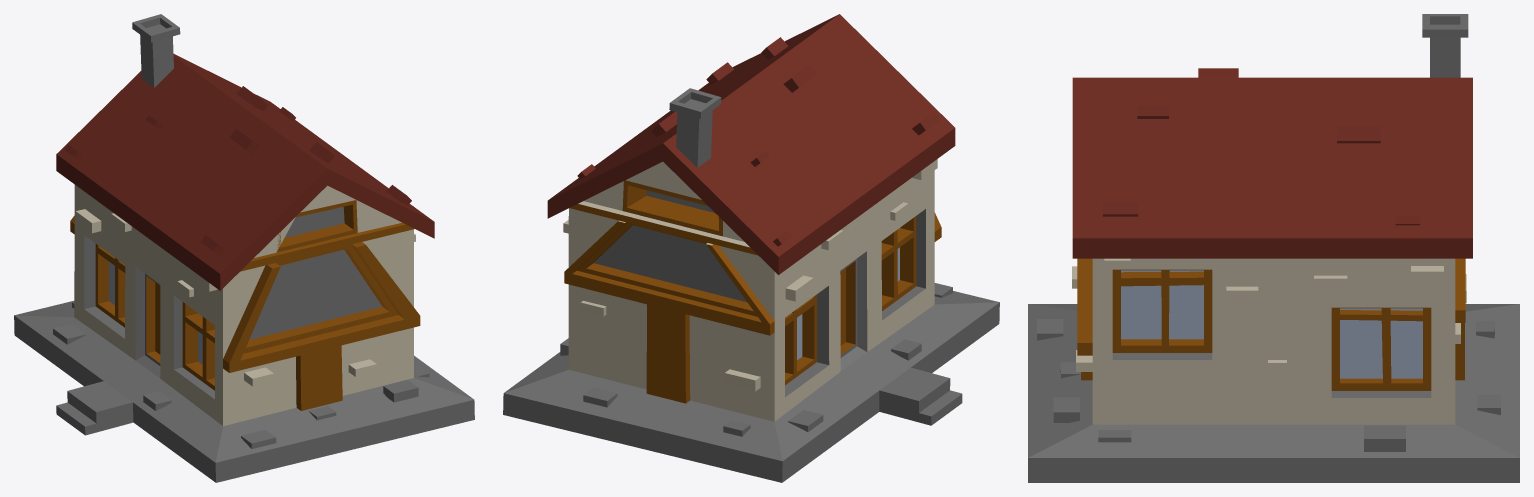
The model's file is RTS_Huis.fbx.
3 renders of one model, left to right at view 1: azimuth 30°, elevation 25°; view 2: azimuth 150°, elevation 25°; view 3: azimuth 270°, elevation 25°, orthographic. The views are drawn at different scales.
Visible parts, largest first — view 1: RTS_House; view 2: RTS_House; view 3: RTS_House.
Part boxes in pixels (x1,y1,x2,y2): RTS_House: (14, 14, 474, 482); RTS_House: (503, 14, 999, 482); RTS_House: (1028, 14, 1519, 482).
Size of the model in its own units: 580 by 554 by 658.
